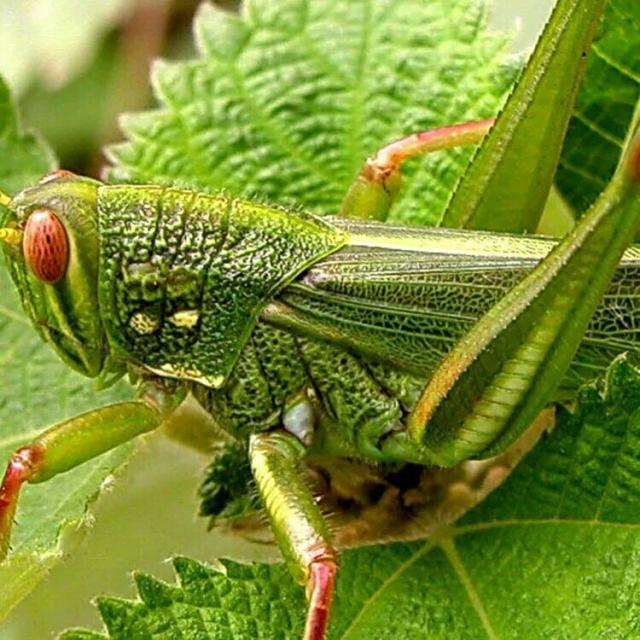ZhaMeng: (0, 163, 634, 471)
